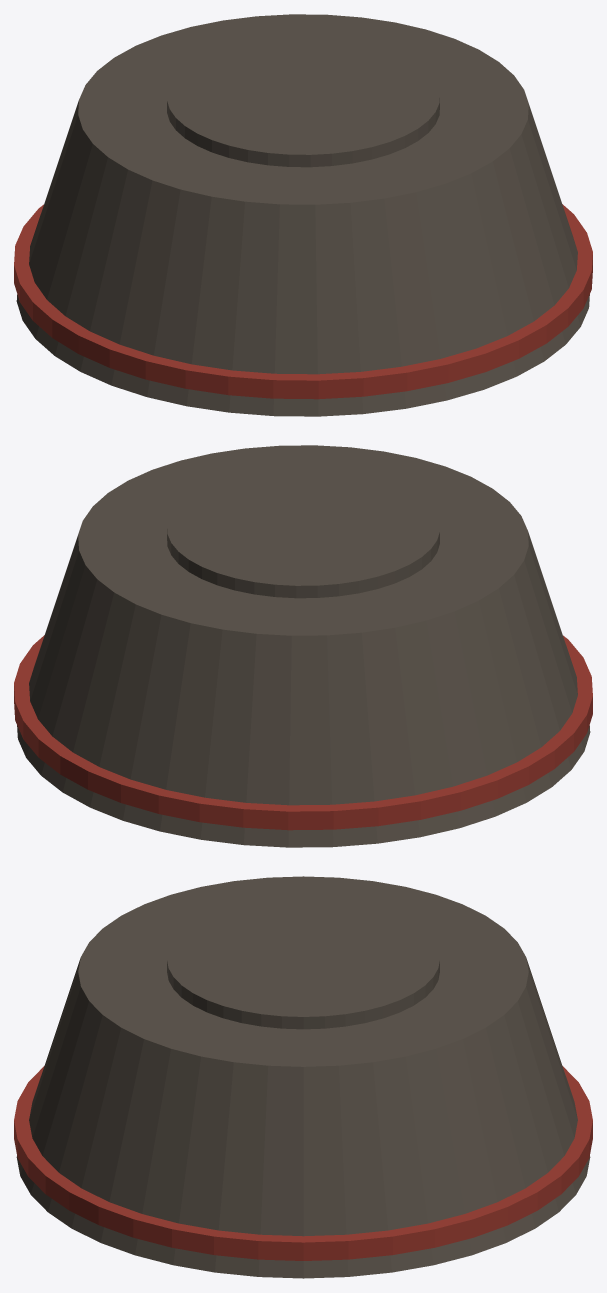
File: floor-pillow.glb
3 renders of one model, top to bottom at view 1: azimuth 30°, elevation 25°; view 2: azimuth 150°, elevation 25°; view 3: azimuth 270°, elevation 25°, orthographic.
Visible parts, largest first — view 1: fabric, accent-warm; view 2: fabric, accent-warm; view 3: fabric, accent-warm.
Boxes of the visible parts, x1,y1,x2,y2 form: fabric: (16, 14, 589, 416); accent-warm: (14, 204, 592, 399); fabric: (17, 445, 590, 847); accent-warm: (14, 635, 592, 830); fabric: (16, 876, 590, 1278); accent-warm: (14, 1066, 592, 1260).
Size of the model in its own units: 0.848 by 0.32 by 0.848.
